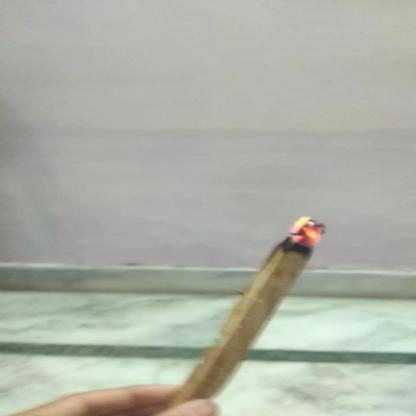fire: (276, 216, 336, 248)
